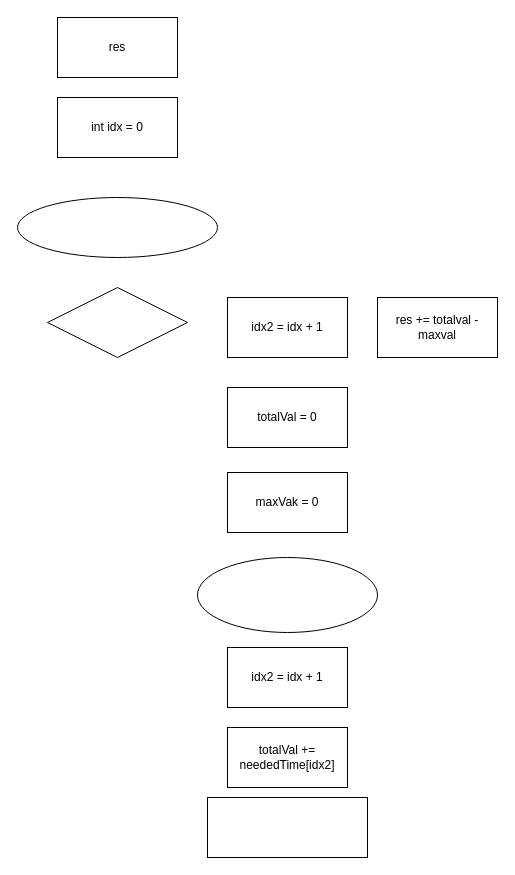
This 515x875 diagram has some shape labels left out. The centre of each missing label's shape, as x and y in pixels:
idx < neededTime.size() - 1인 동안 반복: (x=117, y=227)
idx2 + 1 != idx2 이고 idx2 < size() - 1 인동안 반복: (x=287, y=594)
idx와 idx + 1이 다른가?: (x=117, y=322)
maxVal = max(maxVal, neededTime[idx2]): (x=287, y=827)
